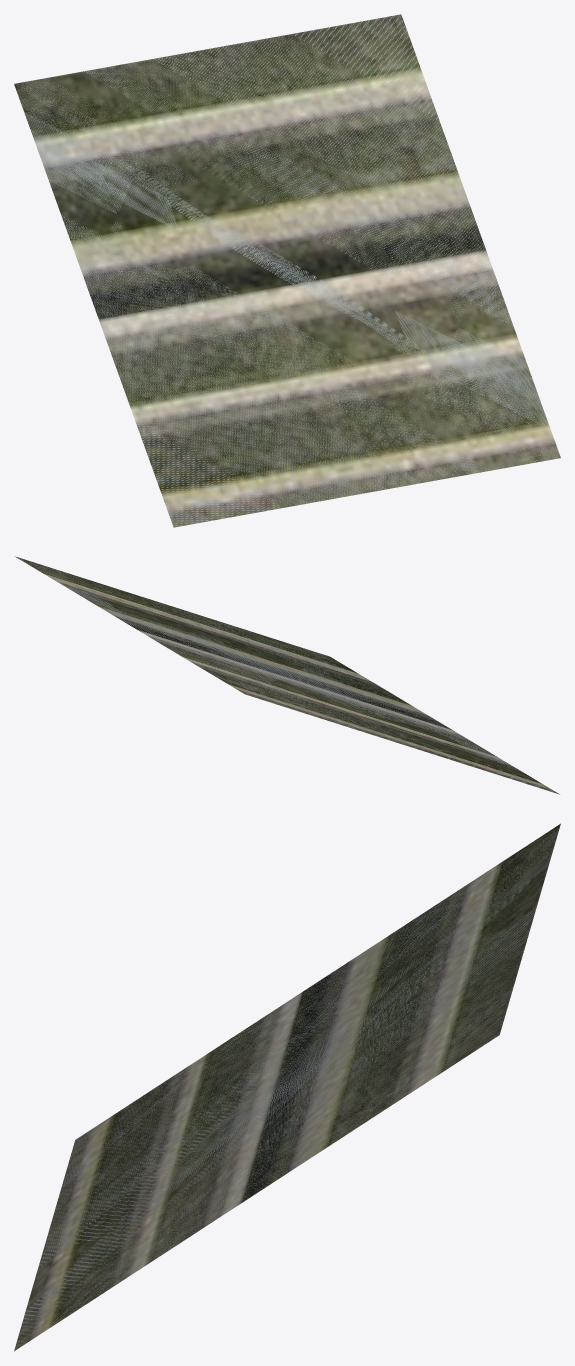
Rendered from 西庸城堡373.dae.
The picture shows the model from 3 angles, top to bottom: view 1: azimuth 30°, elevation 25°; view 2: azimuth 150°, elevation 25°; view 3: azimuth 270°, elevation 25°; orthographic projection. The views are drawn at different scales.
Parts seen in each view (by area): view 1: SketchUp; view 2: SketchUp; view 3: SketchUp.
Part boxes in pixels (x1,y1,x2,y2): SketchUp: (14,14,560,527); SketchUp: (15,556,559,794); SketchUp: (14,823,560,1351).
Size of the model in its own units: 93.74 by 91.54 by 63.07.
